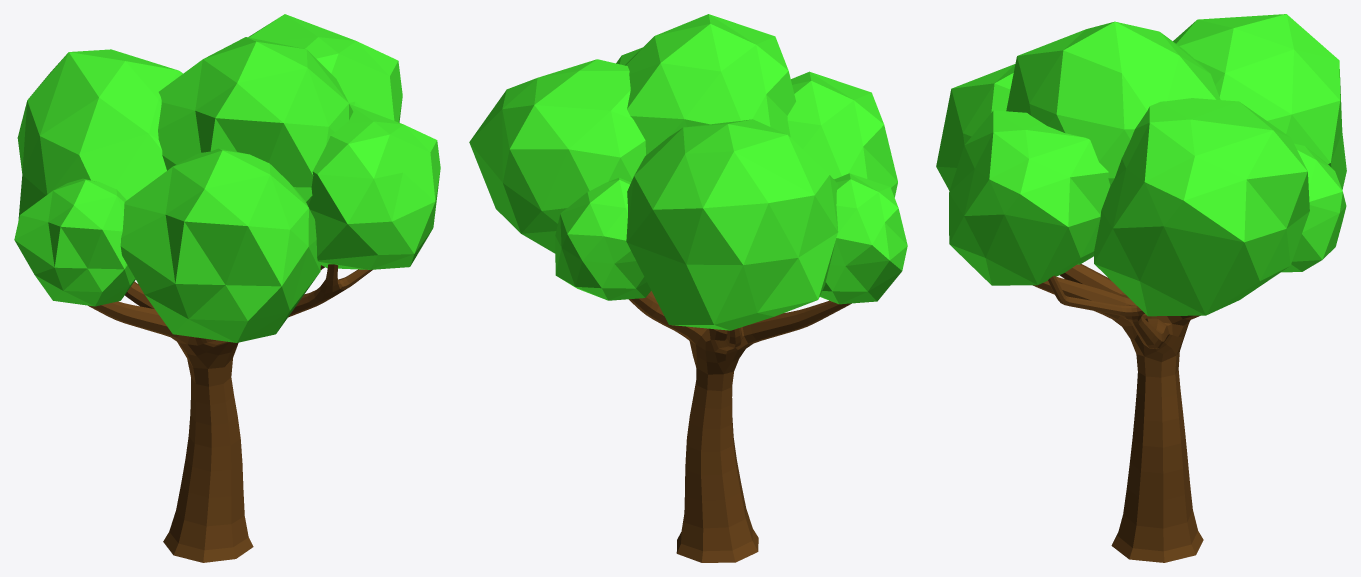
File: TreeV2 (2).fbx
The picture shows the model from 3 angles, left to right: view 1: azimuth 30°, elevation 25°; view 2: azimuth 150°, elevation 25°; view 3: azimuth 270°, elevation 25°; orthographic projection. The views are drawn at different scales.
Visible parts, largest first — view 1: Icosphere.002; view 2: Icosphere.002; view 3: Icosphere.002.
Part boxes in pixels (x1,y1,x2,y2): Icosphere.002: [14, 14, 440, 562]; Icosphere.002: [469, 14, 907, 562]; Icosphere.002: [936, 14, 1346, 562].
Size of the model in its own units: 432 by 535 by 370.
